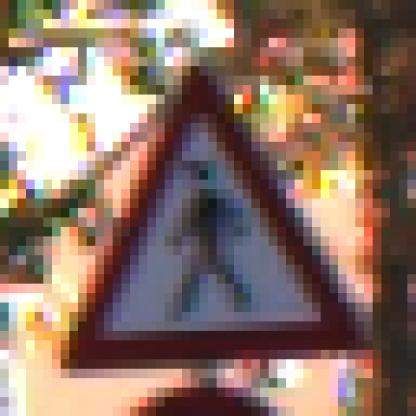crosswalk: (54, 71, 379, 373)
